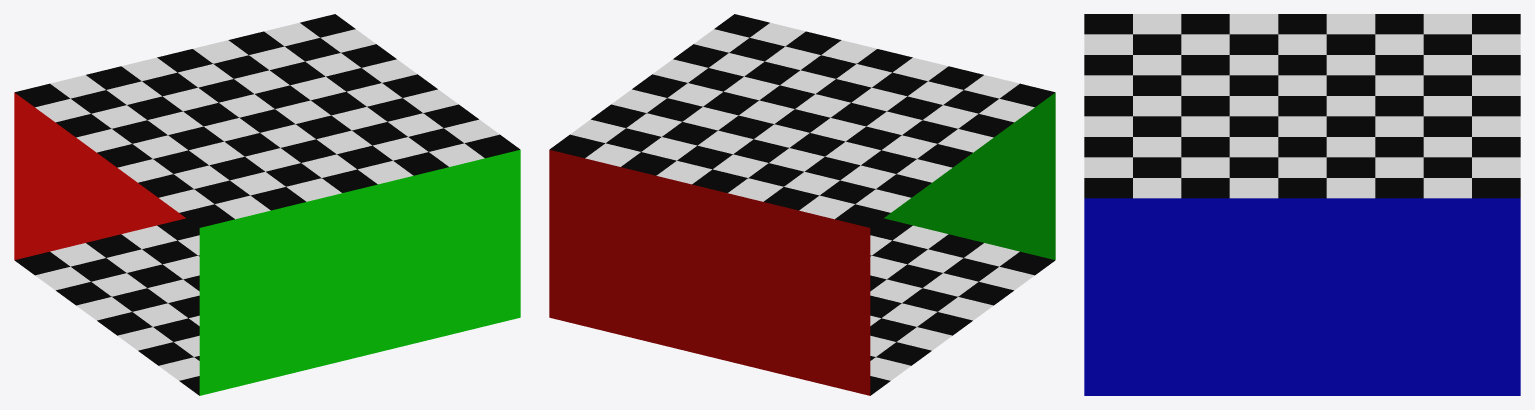
The model's file is cornell_box.dae.
3 renders of one model, left to right at view 1: azimuth 30°, elevation 25°; view 2: azimuth 150°, elevation 25°; view 3: azimuth 270°, elevation 25°, orthographic. The views are drawn at different scales.
Parts seen in each view (by area): view 1: Plane_001, Plane02_Plane02_001, Plane, Plane02_Plane02; view 2: Plane_001, Plane02_Plane02, Plane, Plane02_Plane02_001; view 3: Plane03_Plane03, Plane_001.
Boxes of the visible parts, x1,y1,x2,y2 form: Plane_001: (15,14,519,227); Plane02_Plane02_001: (199,149,520,395); Plane: (15,218,199,395); Plane02_Plane02: (14,92,185,260); Plane_001: (550,14,1054,227); Plane02_Plane02: (549,149,870,395); Plane: (870,218,1054,395); Plane02_Plane02_001: (884,92,1055,260); Plane03_Plane03: (1084,198,1520,395); Plane_001: (1084,14,1520,198).
Bounding box in the file's own units: 60 × 60 × 30.
